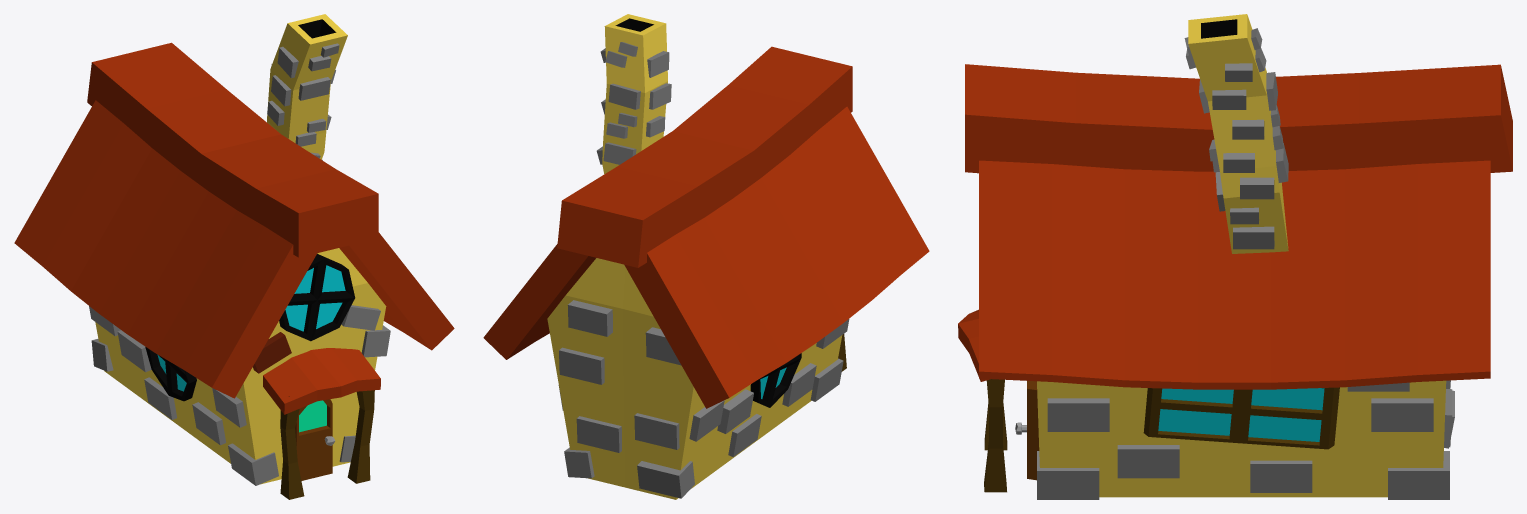
The model's file is CasinhafofaAmarelo.fbx.
3 views of the same model, side by side, from view 1: azimuth 30°, elevation 25°; view 2: azimuth 150°, elevation 25°; view 3: azimuth 270°, elevation 25° (orthographic). The views are drawn at different scales.
Visible parts, largest first — view 1: CasinhafofaAmarelo; view 2: CasinhafofaAmarelo; view 3: CasinhafofaAmarelo.
Boxes of the visible parts, x1,y1,x2,y2 form: CasinhafofaAmarelo: (14,14,454,499); CasinhafofaAmarelo: (483,14,929,499); CasinhafofaAmarelo: (958,14,1512,499).
Size of the model in its own units: 614 by 915 by 938.
